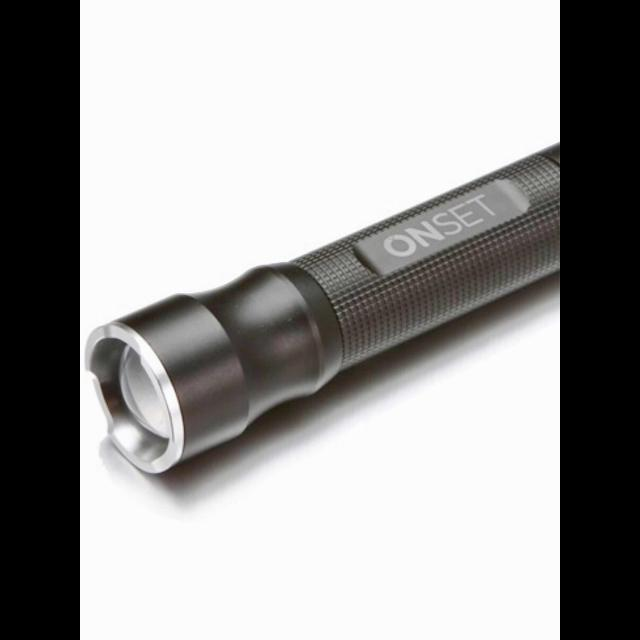Flashlight: (80, 136, 560, 486)
